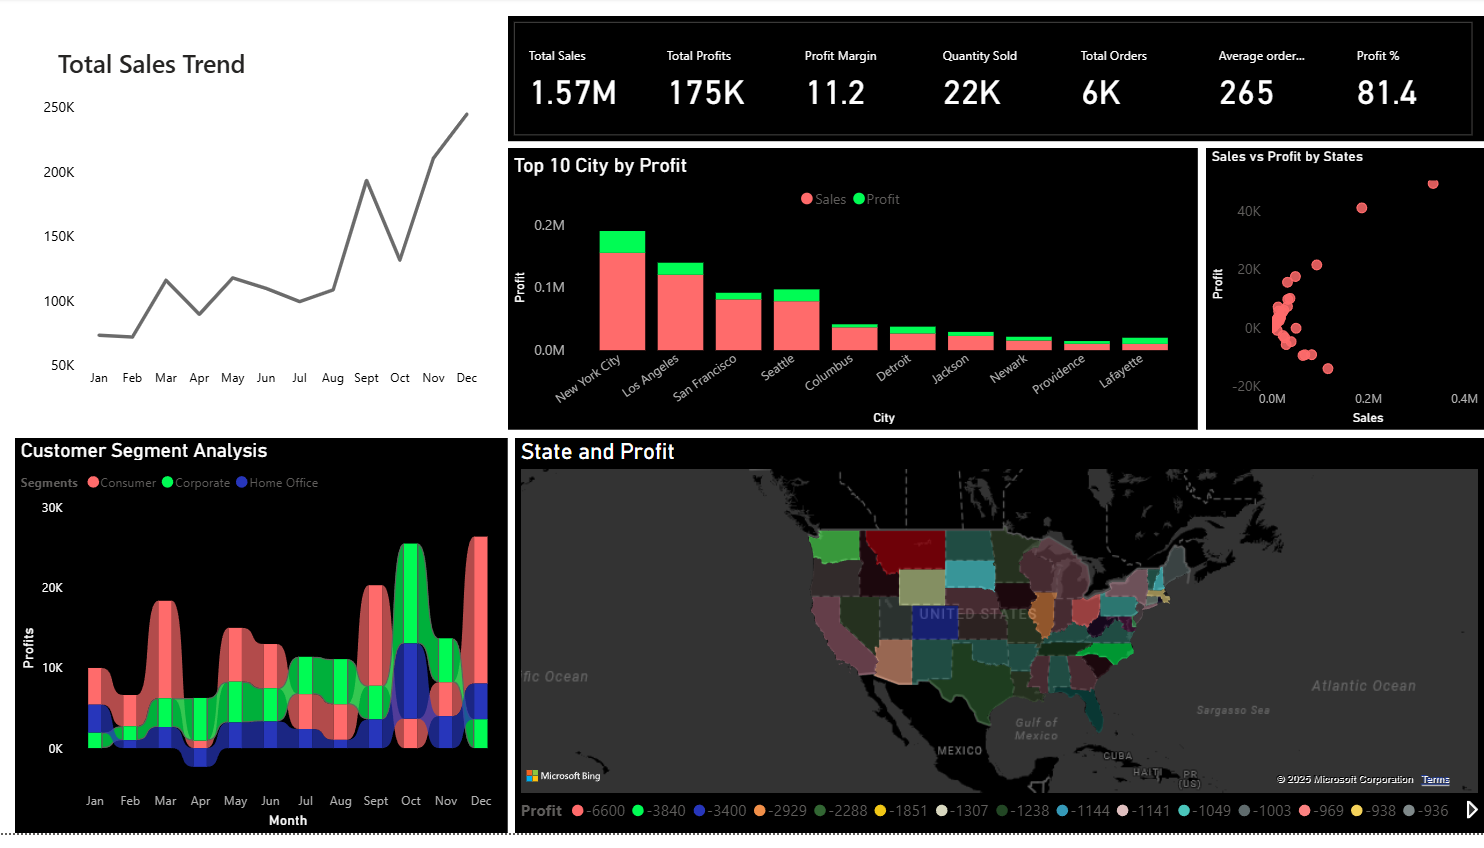

The dashboard page shown, as its layout file describes it:
{"tool":"powerbi","page":{"name":"Page 1","canvas":[1280,720],"ordinal":0},"visuals":[{"type":"textbox","title":"Total Sales Trend","box":[44.9,41.4,194.9,29.3],"z":0},{"type":"lineChart","fields":{"Category":["Sheet1.Month Name"],"Y":["Sum(Sheet1.Sales)"]},"box":[31.9,80.2,387.3,265.7],"z":1000},{"type":"cardVisual","fields":{"Data":["Sum(Sheet1.Sales)","Sum(Sheet1.Profit)","Sheet1.Profit Margin %","Sum(Sheet1.Quantity)","Sheet1.Total_orders","Sheet1.Average order value","Sheet1.Profit_Percentage"]},"box":[437.7,15.2,842.5,108.2],"z":2000},{"type":"filledMap","fields":{"Category":["Sheet1.State"],"Series":["Sheet1.Profit"]},"box":[444.5,379.4,835.8,340.6],"z":3000},{"type":"scatterChart","title":"Sales vs Profit by States","fields":{"X":["Sum(Sheet1.Sales)"],"Y":["Sum(Sheet1.Profit)"],"Category":["Sheet1.State"]},"box":[1040.2,129.4,239.8,243.2],"z":4000},{"type":"columnChart","title":"Top 10 City by Profit","fields":{"Category":["Sheet1.City"],"Y":["Sum(Sheet1.Sales)","Sum(Sheet1.Profit)"]},"box":[437.7,129.3,594.9,243.4],"z":5000},{"type":"ribbonChart","title":"Customer Segment Analysis","fields":{"Category":["Sheet1.Month Name"],"Y":["Sum(Sheet1.Profit)"],"Series":["Sheet1.Segment"]},"box":[12.9,379.5,425.2,340.7],"z":6000}]}

Visuals, with their boxes in screenshot pixels (x1, y1, x2, y2), scaled from the page's 1280x720 canvas onto the 1484x848 screenshot:
"Total Sales Trend" textbox: bbox=[52, 49, 278, 83]
lineChart - Sheet1.Month Name x Sum(Sheet1.Sales): bbox=[37, 94, 486, 407]
cardVisual - Sum(Sheet1.Sales) x Sum(Sheet1.Profit): bbox=[507, 18, 1483, 145]
filledMap - Sheet1.State x Sheet1.Profit: bbox=[515, 447, 1483, 847]
"Sales vs Profit by States" scatterChart: bbox=[1206, 152, 1483, 439]
"Top 10 City by Profit" columnChart: bbox=[507, 152, 1197, 439]
"Customer Segment Analysis" ribbonChart: bbox=[15, 447, 508, 847]
